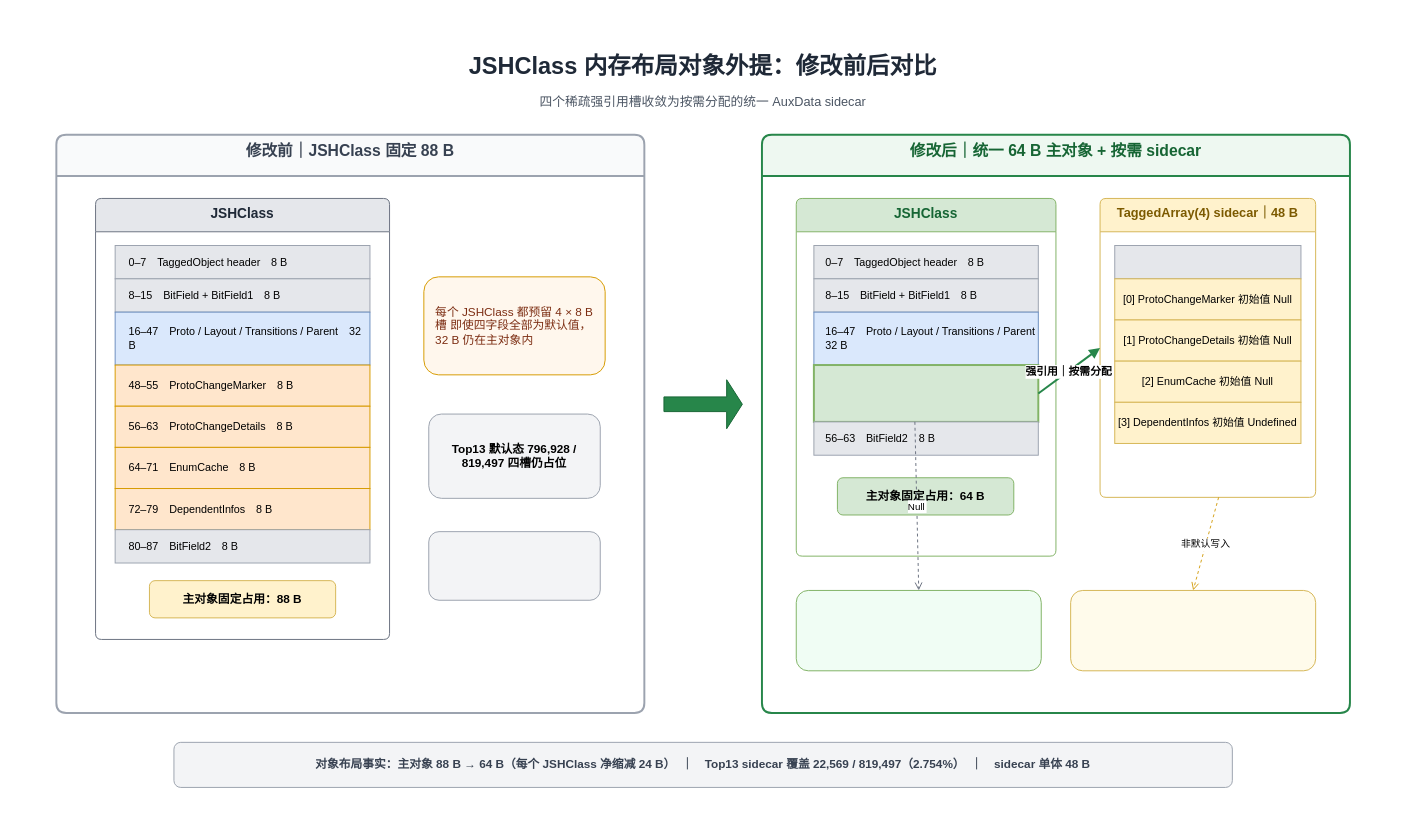
This 1405x837 diagram has some shape labels left out. The centre of each missing label's shape, as x and y in pixels:
48–55 AuxData 8 B Null 或 TaggedArray(4): the point at 925,393
主对象 Tagged body 扫描槽：8 个: the point at 514,565
外提: the point at 702,404
对象头 + 长度 16 B: the point at 1207,262
首次写入非默认值 分配并初始化 TaggedArray(4) release-publish 至 AuxData: the point at 1193,630
默认态：AuxData = Null 不分配 sidecar getter 直接返回字段默认值: the point at 918,630
